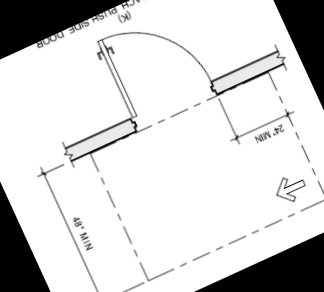door: (90, 2, 218, 134)
